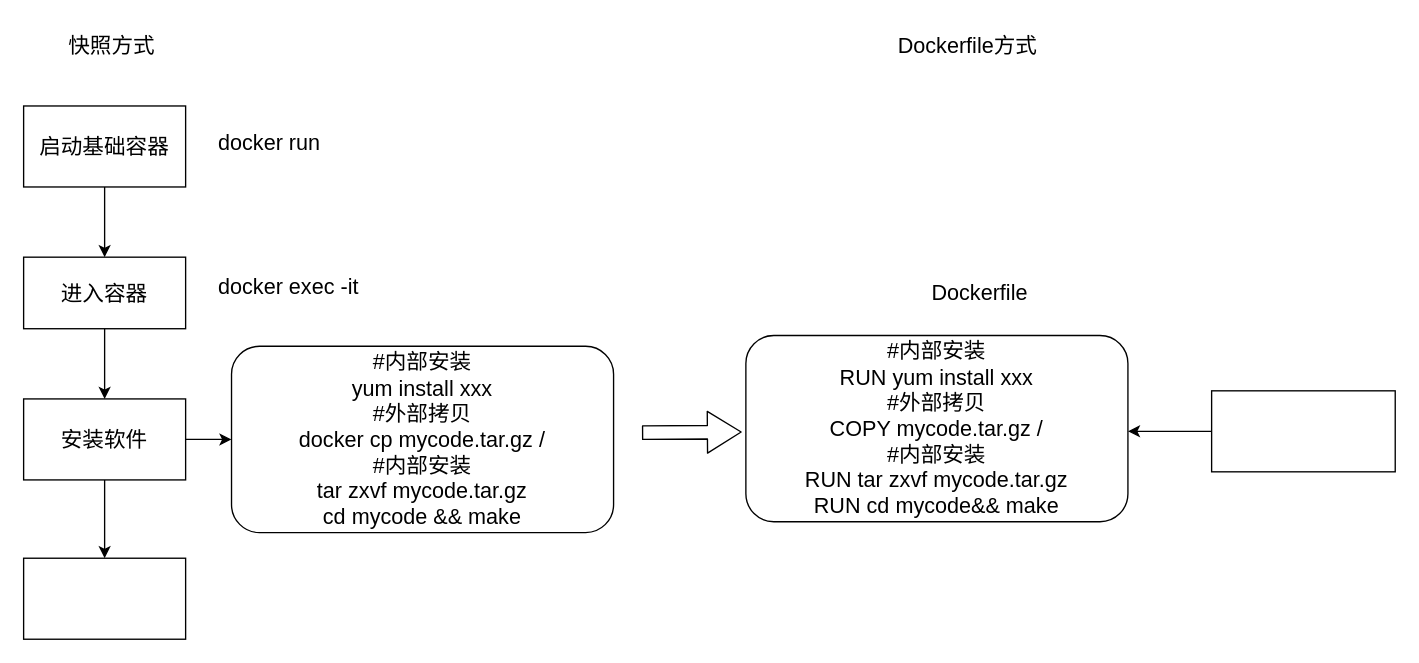
This 1419x663 diagram has some shape labels left out. Here are the shapes that lost their labels. From the top down, the centre of each, then its label:
(x=1302, y=430): docker build执行构建搞定
(x=104, y=598): docker commit提交快照
